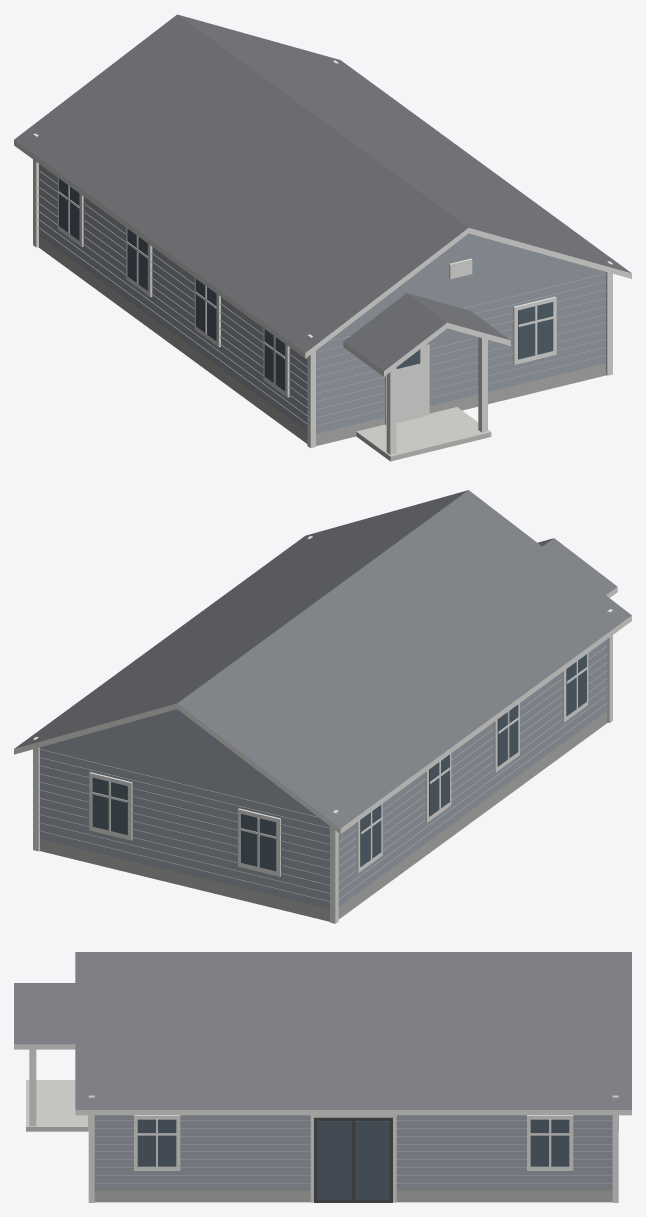
Rendered from almond-cottage.glb.
The picture shows the model from 3 angles, top to bottom: view 1: azimuth 30°, elevation 25°; view 2: azimuth 150°, elevation 25°; view 3: azimuth 270°, elevation 25°; orthographic projection. The views are drawn at different scales.
Parts seen in each view (by area): view 1: The Almond (cottage); view 2: The Almond (cottage); view 3: The Almond (cottage).
Part boxes in pixels (x1,y1,x2,y2): The Almond (cottage): (14, 14, 631, 461); The Almond (cottage): (14, 490, 631, 923); The Almond (cottage): (14, 952, 631, 1202).
Bounding box in the file's own units: 8.38 × 4.65 × 14.38.
